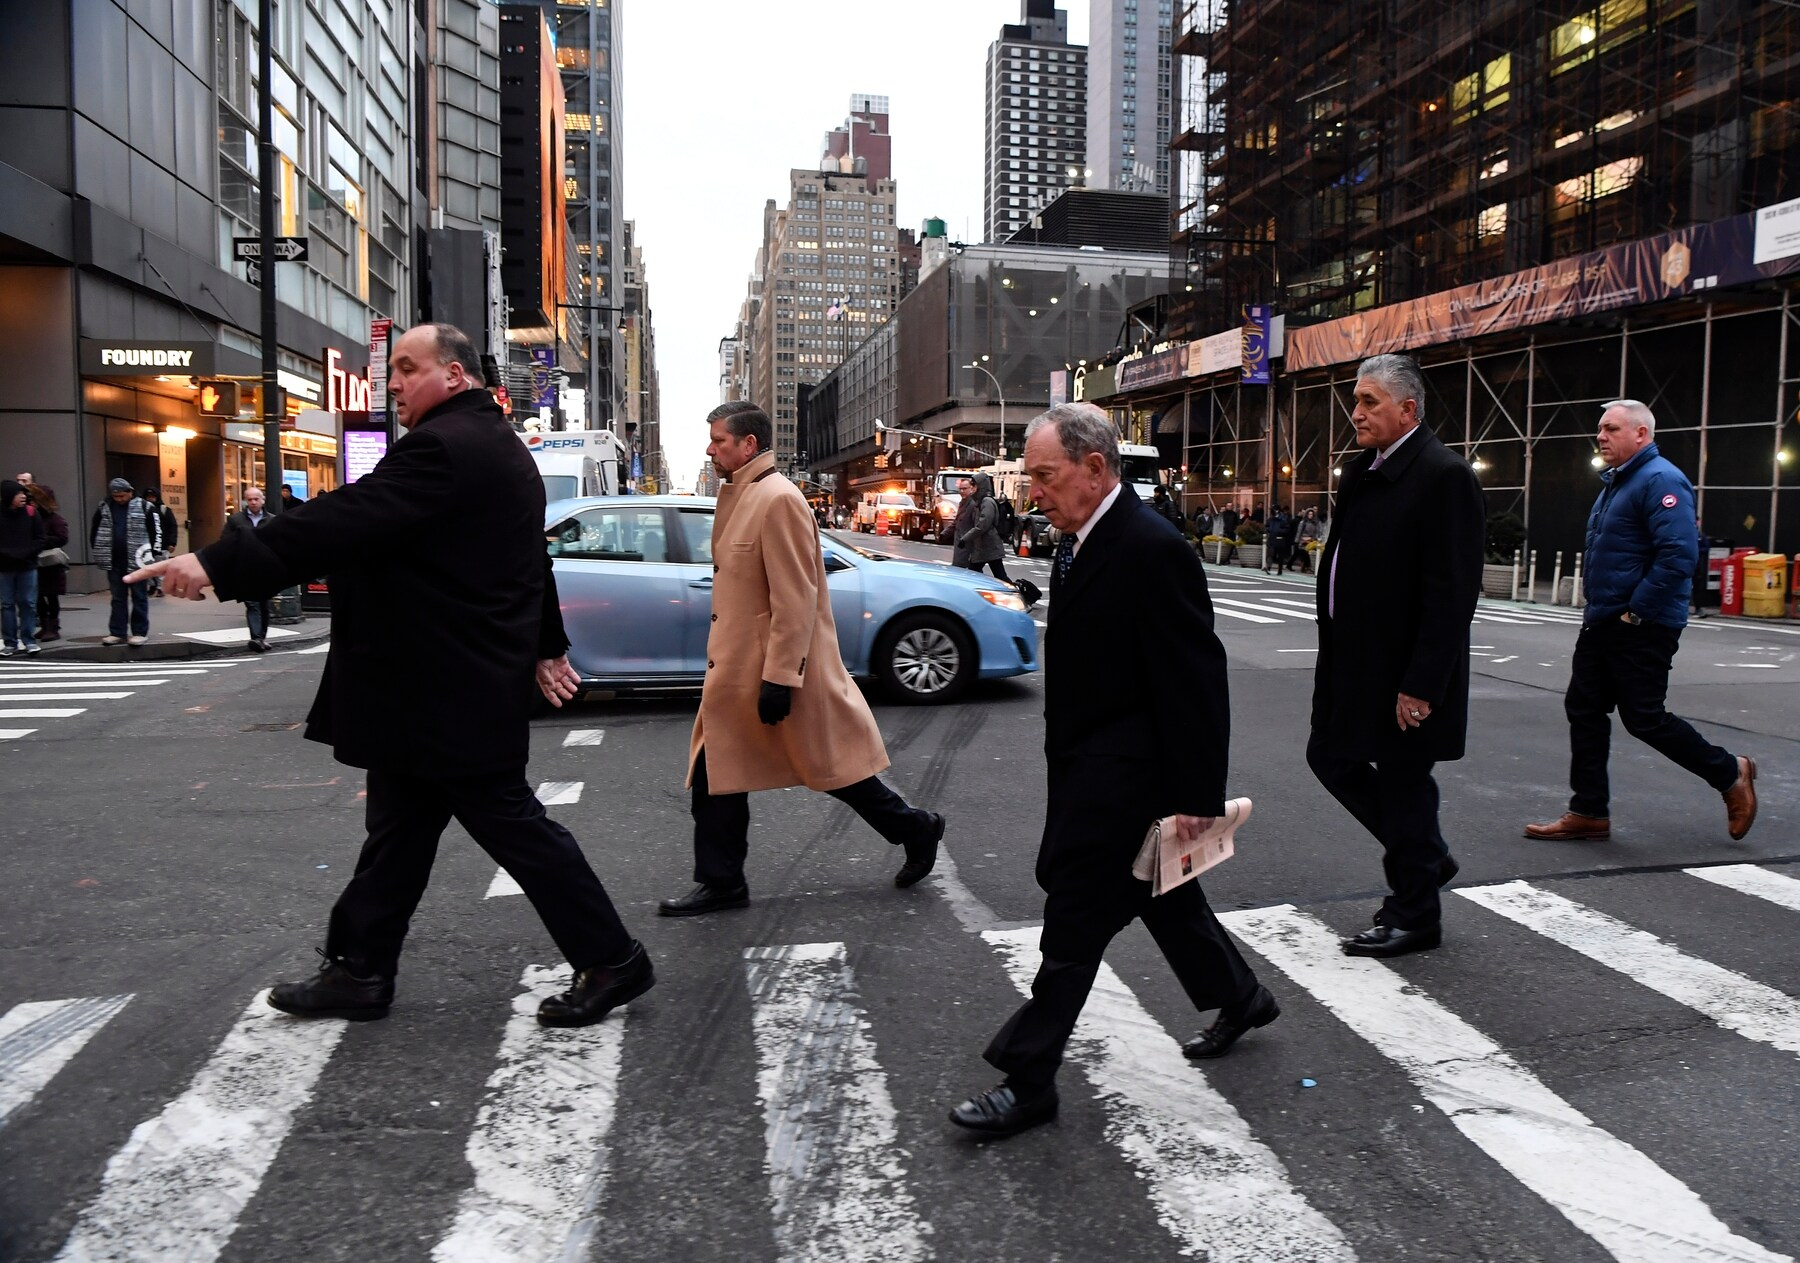car: (519, 495, 1029, 698)
person: (117, 321, 663, 1031), (958, 409, 1286, 1140), (665, 410, 951, 903), (1517, 393, 1763, 874), (1298, 350, 1491, 960), (91, 467, 160, 647), (224, 483, 282, 648), (27, 469, 70, 643), (948, 471, 989, 591)
